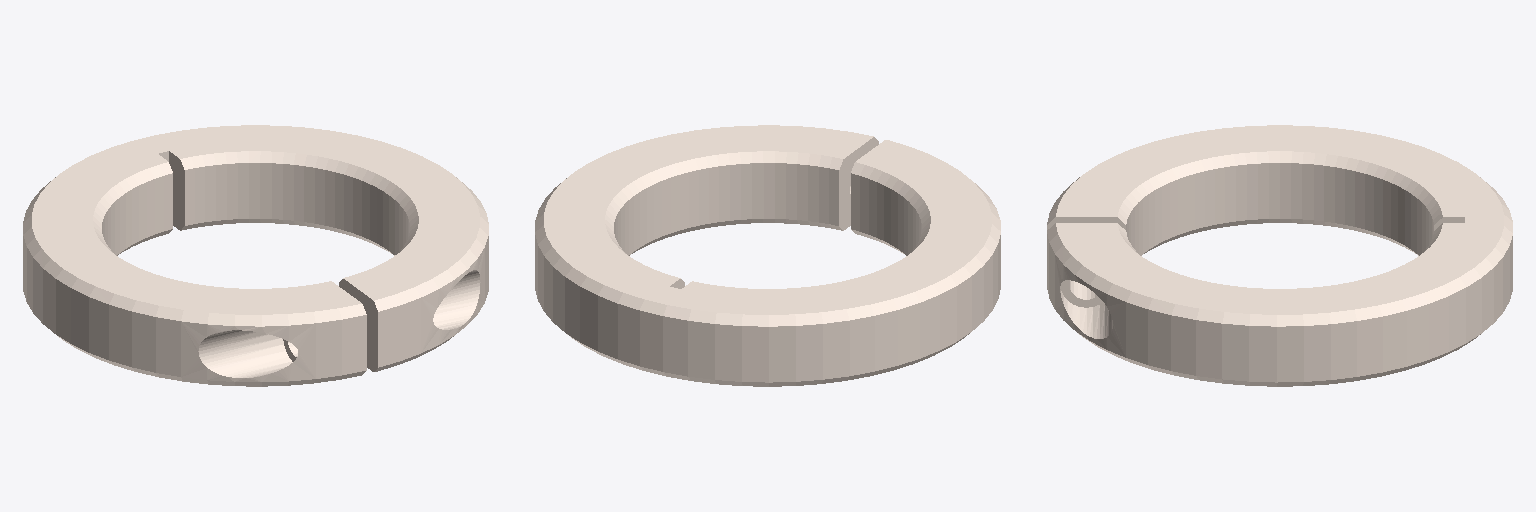
Rendered from sece_prob3.obj.
The picture shows the model from 3 angles: view 1: azimuth 30°, elevation 25°; view 2: azimuth 150°, elevation 25°; view 3: azimuth 270°, elevation 25°; orthographic projection.
Parts seen in each view (by area): view 1: SecE_Prob3; view 2: SecE_Prob3; view 3: SecE_Prob3.
Part boxes in pixels (left/top/right/bottom): SecE_Prob3: left=23, top=125, right=488, bottom=386; SecE_Prob3: left=535, top=125, right=1000, bottom=386; SecE_Prob3: left=1047, top=125, right=1512, bottom=386.
Size of the model in its own units: 0.053 by 0.009 by 0.0529.